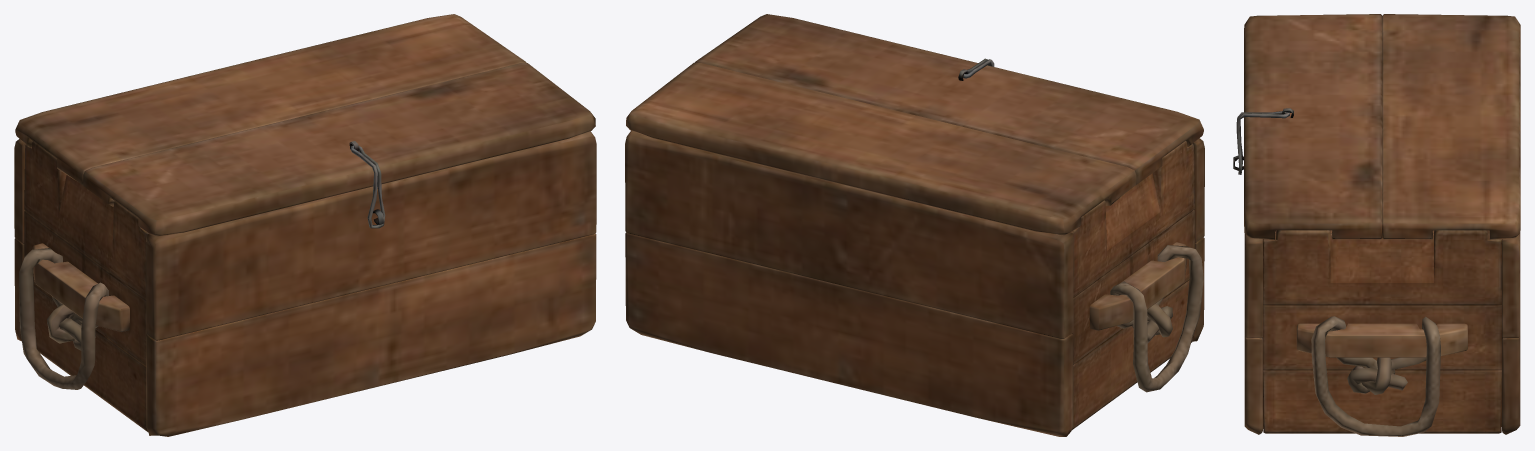
3 renders of one model, left to right at view 1: azimuth 30°, elevation 25°; view 2: azimuth 150°, elevation 25°; view 3: azimuth 270°, elevation 25°, orthographic. The views are drawn at different scales.
Parts seen in each view (by area): view 1: wooden_crate_01_lod1; view 2: wooden_crate_01_lod1; view 3: wooden_crate_01_lod1.
Part boxes in pixels (<box>): wooden_crate_01_lod1: <box>14,14,596,436</box>; wooden_crate_01_lod1: <box>625,14,1204,436</box>; wooden_crate_01_lod1: <box>1233,14,1520,436</box>.
Size of the model in its own units: 0.8245 by 0.3495 by 0.4077.
1 material, 1 textured.
